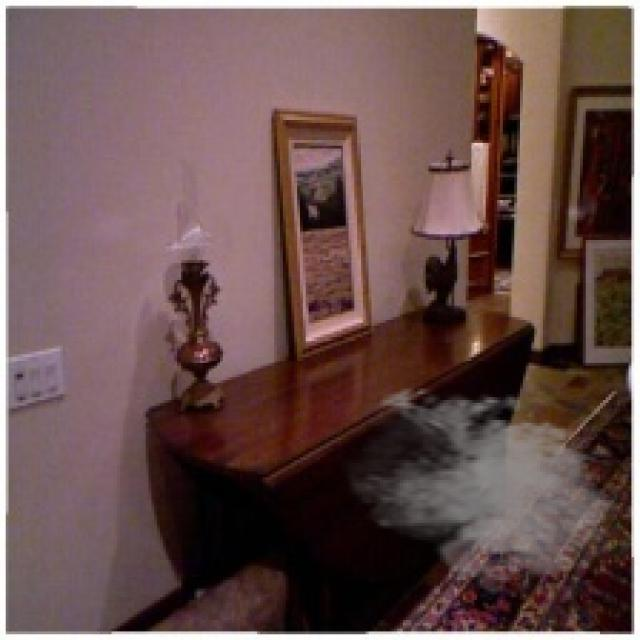smoke: (340, 383, 623, 597)
